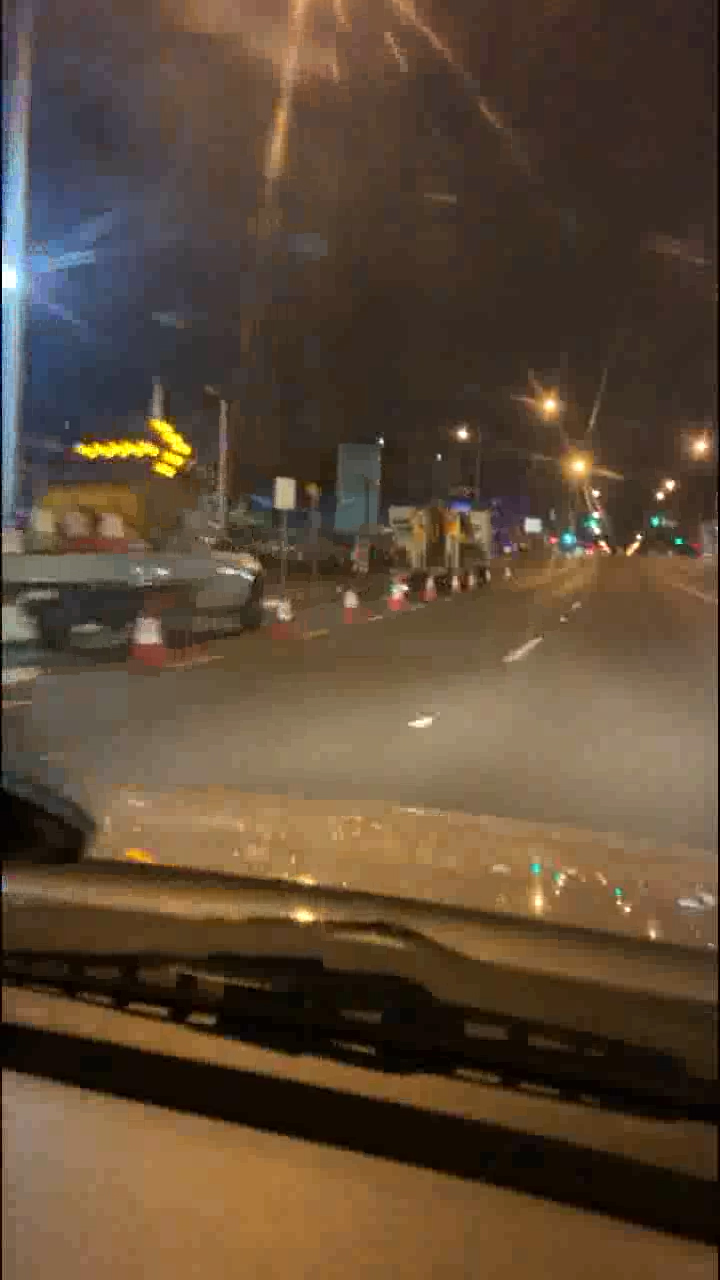truck: (30, 460, 278, 670), (348, 490, 527, 589)
